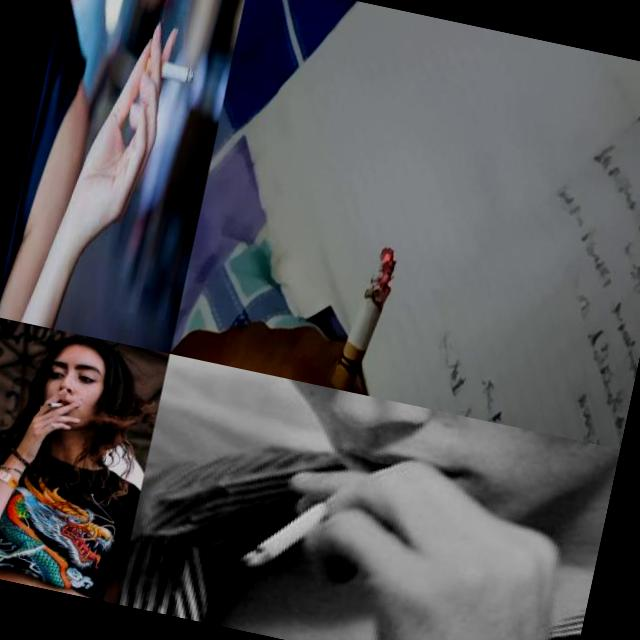cigarette: (318, 236, 399, 394), (240, 468, 348, 582), (144, 57, 194, 84), (46, 400, 64, 410)
